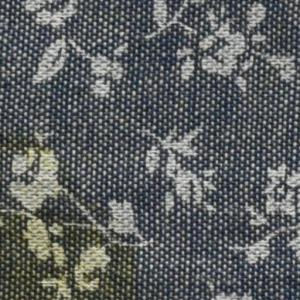Oil Stain: (1, 136, 142, 300)
